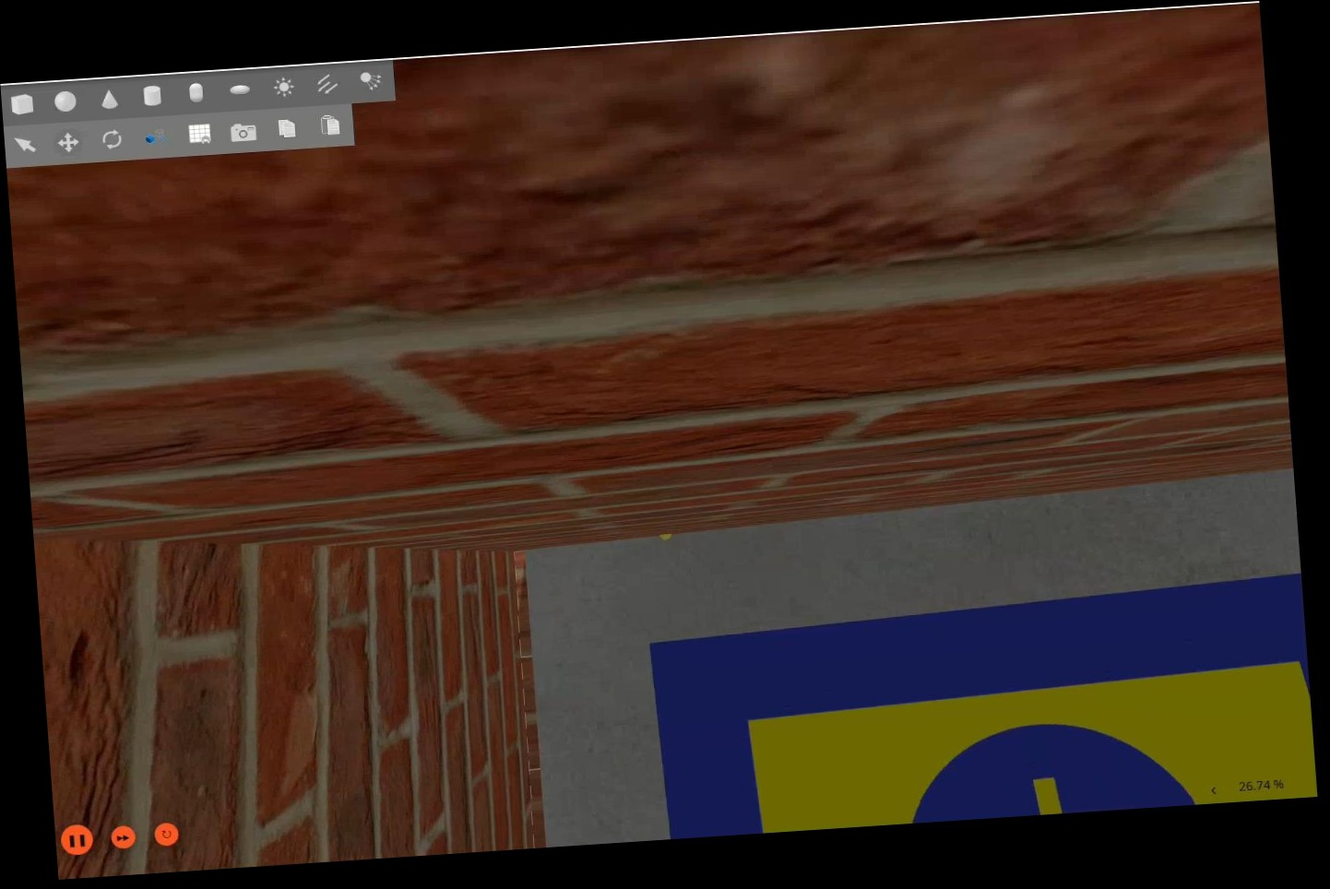large_base: (648, 572, 1318, 841)
